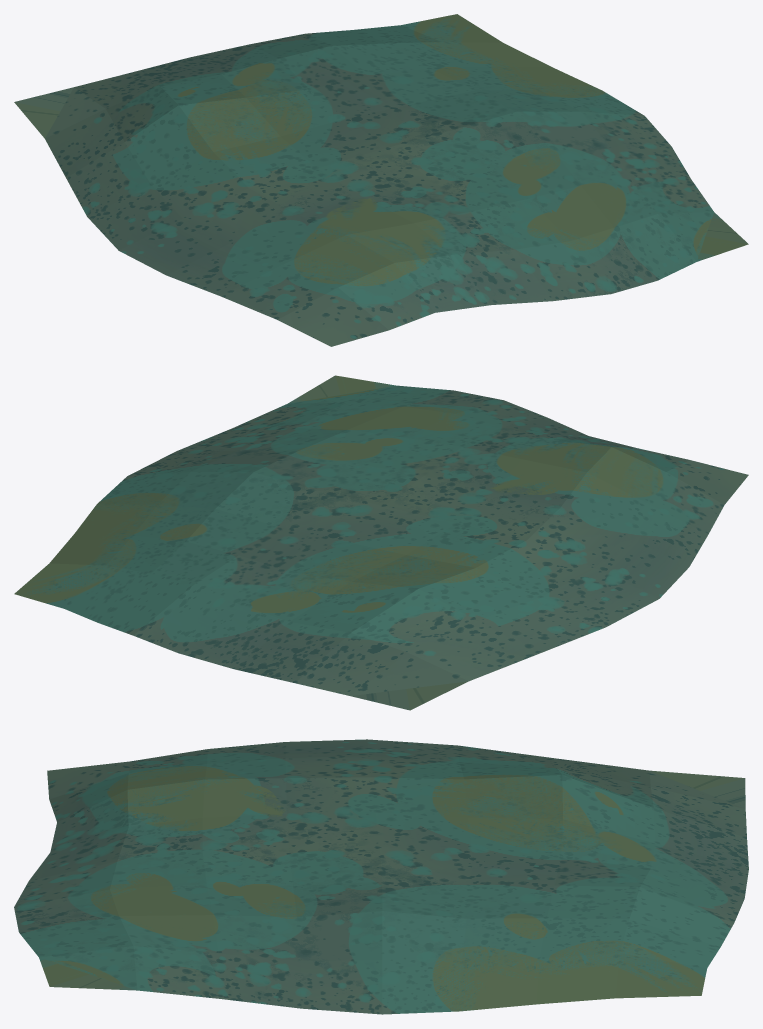
The model's file is grass.fbx.
The picture shows the model from 3 angles, top to bottom: view 1: azimuth 30°, elevation 25°; view 2: azimuth 150°, elevation 25°; view 3: azimuth 270°, elevation 25°; orthographic projection. The views are drawn at different scales.
Parts seen in each view (by area): view 1: Plane.001; view 2: Plane.001; view 3: Plane.001.
Boxes of the visible parts, bbox=[...] form: Plane.001: bbox=[14, 14, 748, 346]; Plane.001: bbox=[14, 375, 748, 710]; Plane.001: bbox=[14, 739, 748, 1014].
Bounding box in the file's own units: 2357 × 174 × 2665.
1 material, 1 textured.
